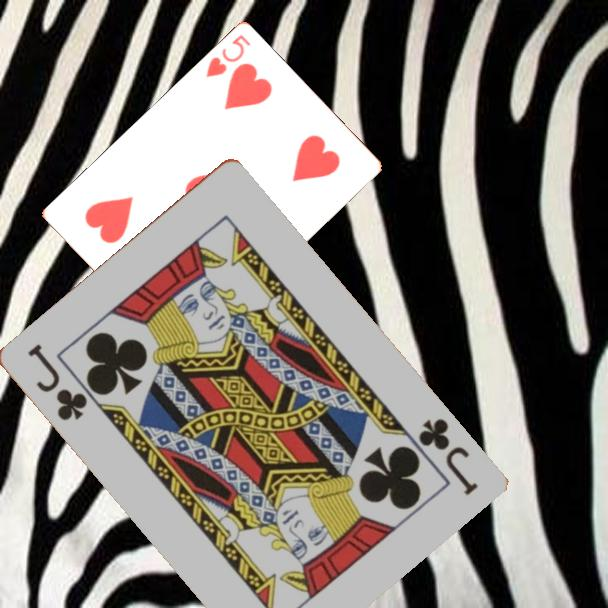c11: (23, 339, 90, 424), (414, 414, 481, 499)
h05: (202, 31, 253, 81)
